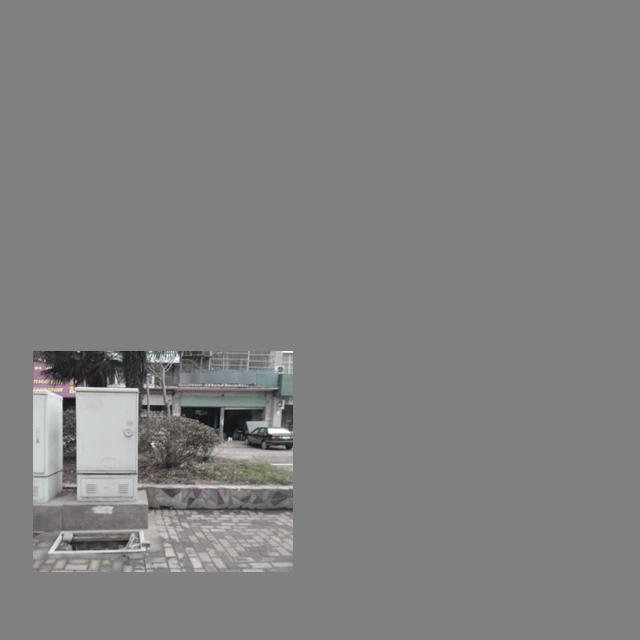lose: (48, 527, 146, 557)
